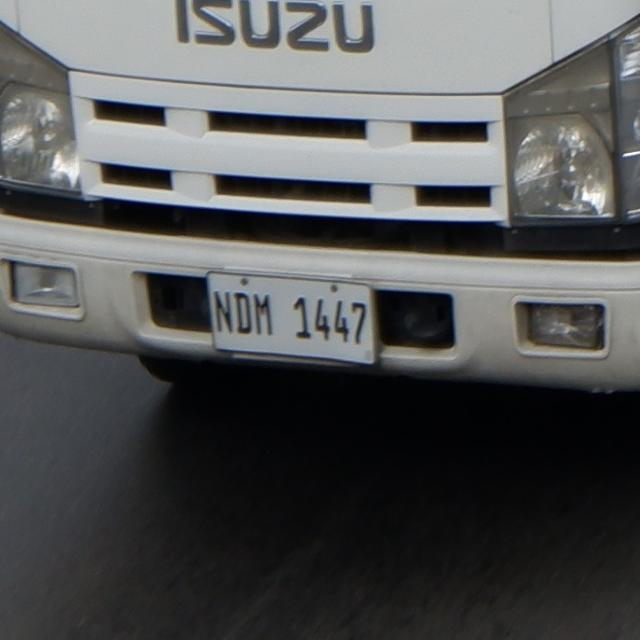LicensePlate: (196, 259, 391, 365)
